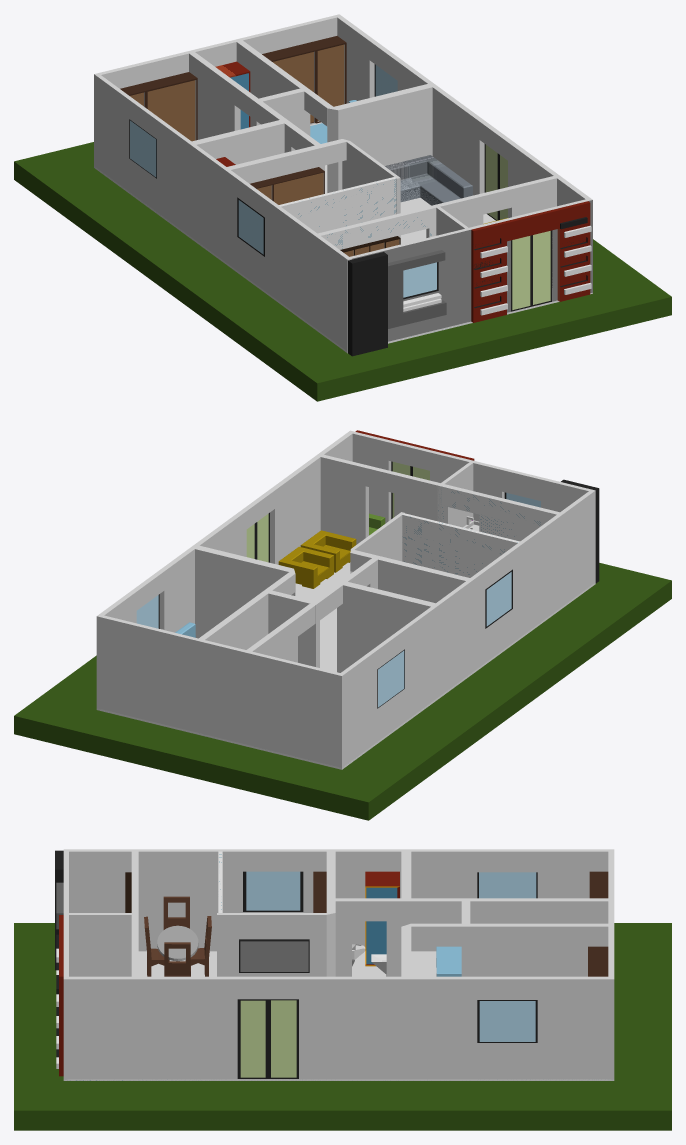
The model's file is house.gltf.
The picture shows the model from 3 angles, top to bottom: view 1: azimuth 30°, elevation 25°; view 2: azimuth 150°, elevation 25°; view 3: azimuth 270°, elevation 25°; orthographic projection. The views are drawn at different scales.
Visible parts, largest first — view 1: House, Ground, Elevation01, LSofa; view 2: House, Ground, Elevation01; view 3: House, Ground, DiningTable, Bed01, Chair02, Chair01, Chair03, Chair04, Elevation01.
Boxes of the visible parts, <box> form: House: <box>94,14,592,353</box>; Ground: <box>14,142,671,401</box>; Elevation01: <box>348,252,387,356</box>; LSofa: <box>385,155,472,205</box>; House: <box>96,430,595,769</box>; Ground: <box>14,563,671,820</box>; Elevation01: <box>561,479,599,583</box>; House: <box>56,849,614,1080</box>; Ground: <box>14,923,671,1130</box>; DiningTable: <box>157,925,198,961</box>; Bed01: <box>436,946,461,976</box>; Chair02: <box>164,942,190,976</box>; Chair01: <box>163,896,189,960</box>; Chair03: <box>190,916,211,976</box>; Chair04: <box>144,916,169,976</box>; Elevation01: <box>55,850,63,970</box>.
Bounding box in the file's own units: 20.21 × 6.1 × 29.93.
Materials: 9 (9 with a texture image).
